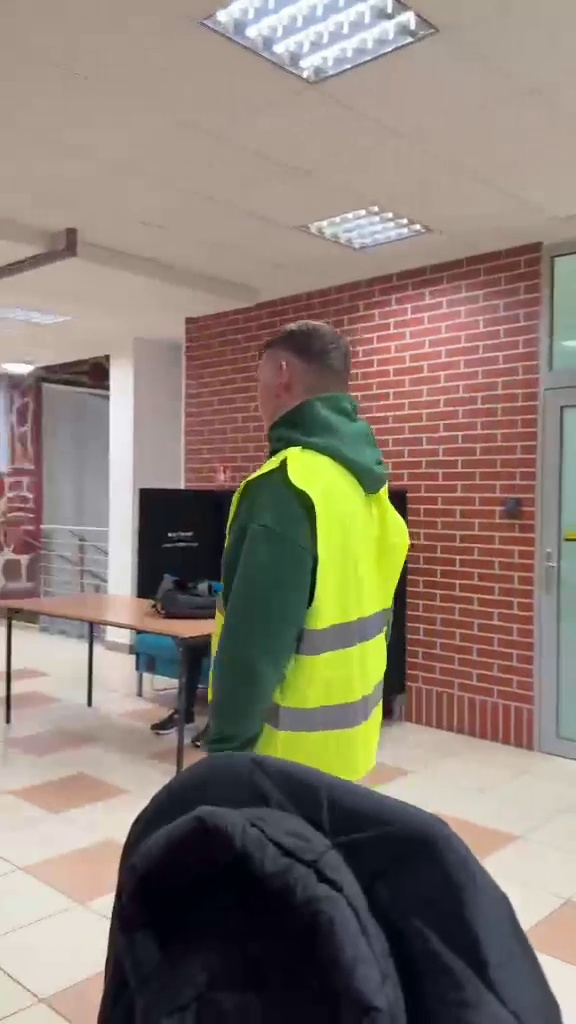vest: (211, 317, 410, 786)
